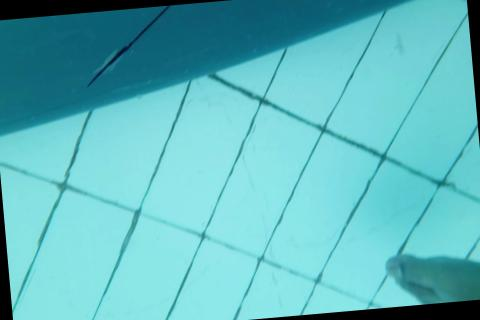keretakan: (82, 5, 185, 93)
